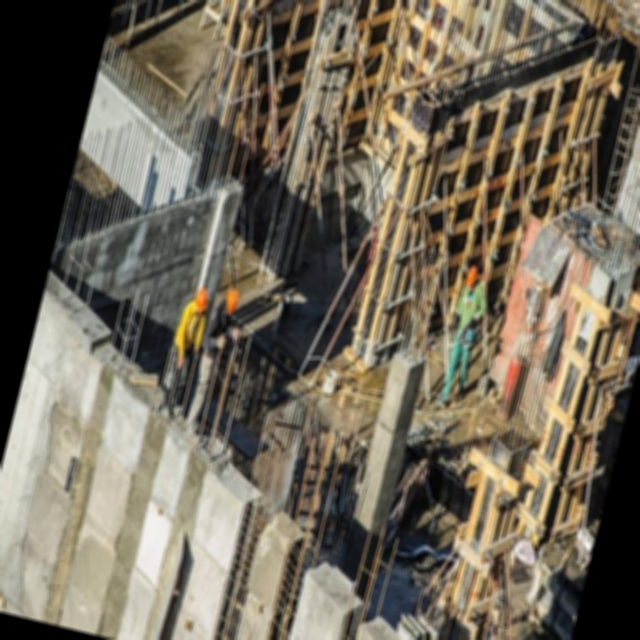Con_Casco: (222, 287, 241, 317), (193, 287, 211, 313), (464, 263, 480, 292)
